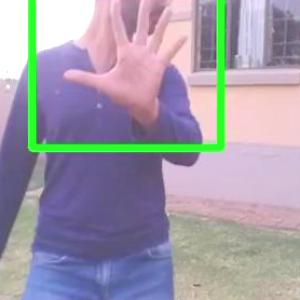follow_hand: (61, 0, 196, 119)
